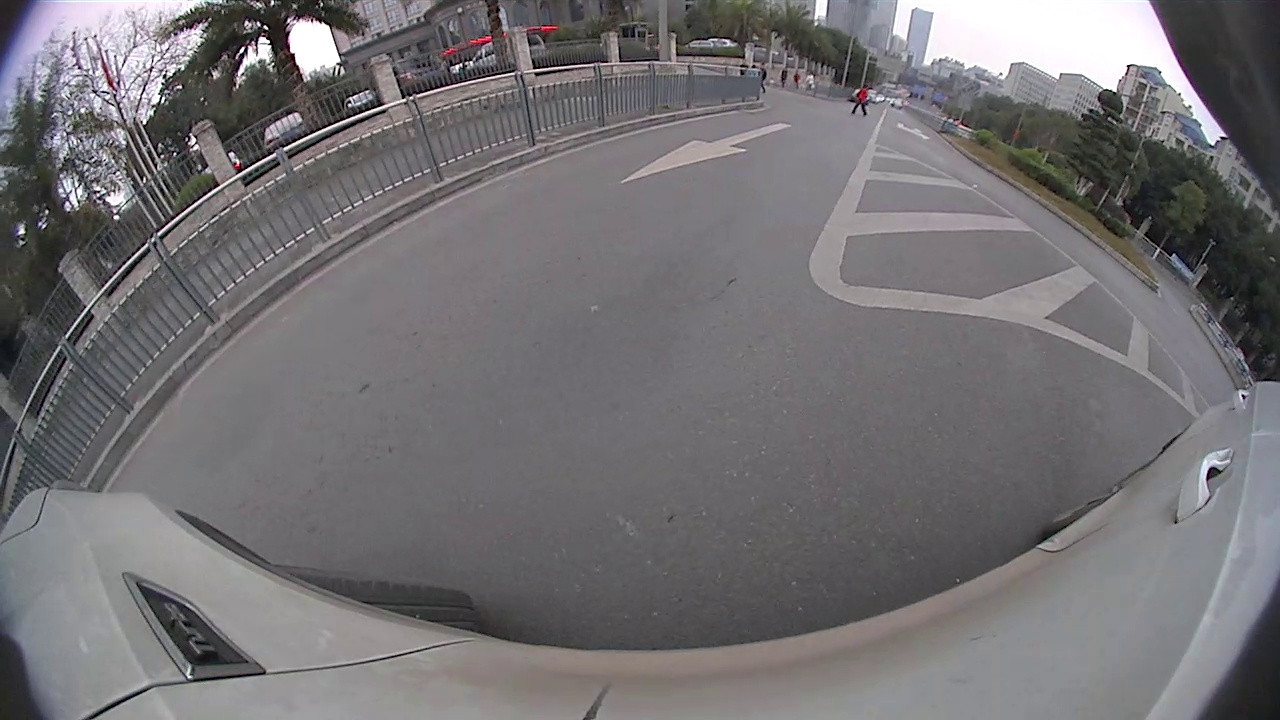car: (1064, 225, 1100, 264)
front: (1072, 243, 1079, 254)
person: (272, 128, 286, 155)
rear: (1061, 232, 1068, 241)
